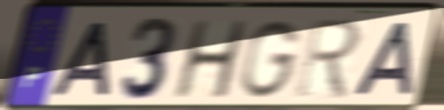3: (118, 15, 182, 104)
A: (47, 19, 112, 100), (349, 20, 415, 98)
G: (237, 18, 304, 101)
H: (170, 18, 249, 101)
R: (293, 16, 364, 102)
